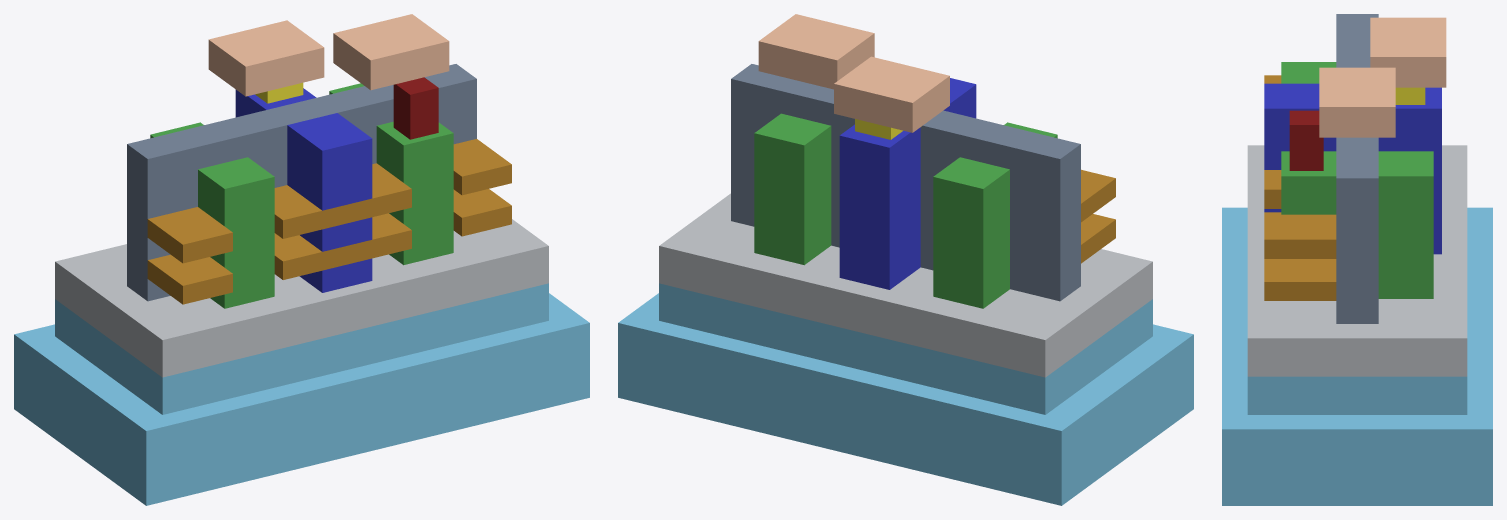
Rendered from simp_fs.obj.
3 views of the same model, side by side, from view 1: azimuth 30°, elevation 25°; view 2: azimuth 150°, elevation 25°; view 3: azimuth 270°, elevation 25° (orthographic). The views are drawn at different scales.
Parts seen in each view (by area): view 1: pwell, fox, pwell_u, wall, po, md_src, md_drn, m0_d, m0_g, w2, w1, wsr2 (+4 smaller); view 2: pwell, fox, wall, pwell_u, po, md_src, md_drn, m0_g, m0_d, wsr2, wsr1; view 3: pwell, fox, md_drn, wall, pwell_u, po, m0_d, m0_g, ws2, ws1, vd, md_src (+2 smaller).
Boxes of the visible parts, x1,y1,x2,y2 form: pwell: (14, 293, 589, 505); fox: (55, 219, 548, 377); pwell_u: (55, 283, 548, 414); wall: (127, 64, 476, 301); po: (235, 88, 372, 292); md_src: (150, 122, 274, 308); md_drn: (329, 83, 453, 265); m0_d: (333, 14, 449, 90); m0_g: (208, 20, 324, 96); w2: (274, 163, 411, 238); w1: (274, 213, 411, 279); wsr2: (147, 207, 232, 263); pwell: (618, 293, 1193, 505); fox: (659, 193, 1152, 377); wall: (731, 64, 1080, 301); pwell_u: (659, 283, 1152, 414); po: (839, 78, 976, 289); md_src: (933, 122, 1057, 308); md_drn: (754, 113, 831, 265); m0_g: (834, 56, 949, 132); m0_d: (758, 14, 874, 89); wsr2: (1081, 169, 1115, 222); wsr1: (1081, 214, 1115, 263); pwell: (1222, 207, 1492, 505); fox: (1247, 145, 1467, 376); md_drn: (1281, 151, 1433, 298); wall: (1336, 14, 1378, 323); pwell_u: (1247, 376, 1467, 414); po: (1264, 83, 1441, 254); m0_d: (1319, 67, 1395, 137); m0_g: (1370, 17, 1446, 87); ws2: (1264, 214, 1336, 258); ws1: (1264, 259, 1336, 300); vd: (1289, 110, 1323, 170); md_src: (1281, 62, 1336, 83).
Bounding box in the file's own units: 124 × 92 × 64.
